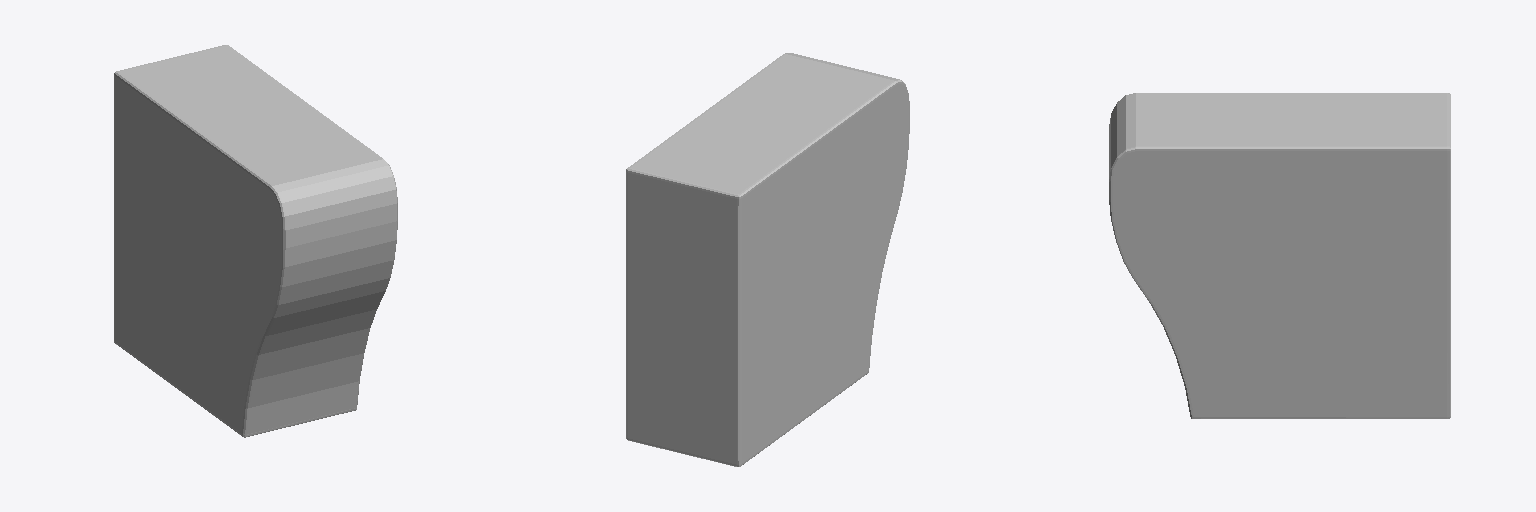
Rendered from SetA_SupportShelf_Style_04.obj.
The picture shows the model from 3 angles: view 1: azimuth 30°, elevation 25°; view 2: azimuth 150°, elevation 25°; view 3: azimuth 270°, elevation 25°; orthographic projection.
Parts seen in each view (by area): view 1: SetA_SupportShelf_Style_04; view 2: SetA_SupportShelf_Style_04; view 3: SetA_SupportShelf_Style_04.
Part boxes in pixels (x1,y1,x2,y2): SetA_SupportShelf_Style_04: (114,45,397,437); SetA_SupportShelf_Style_04: (626,53,909,466); SetA_SupportShelf_Style_04: (1109,93,1450,418).
Size of the model in its own units: 0.0928 by 0.2108 by 0.2401.